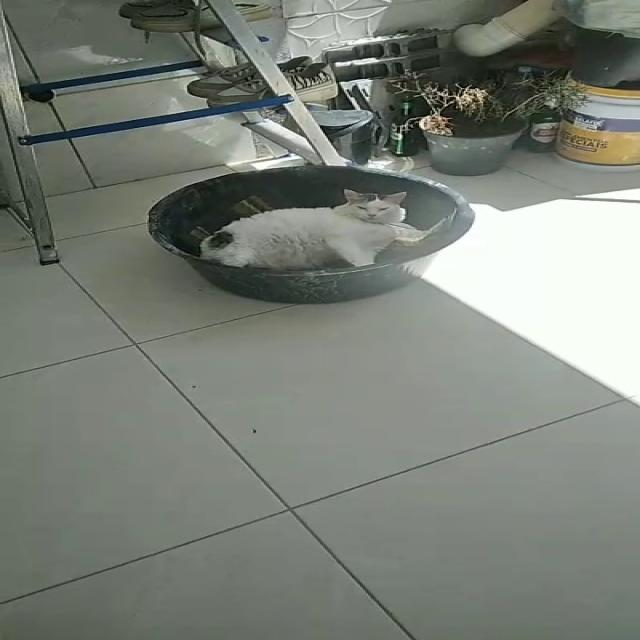Simba: (187, 175, 443, 277)
